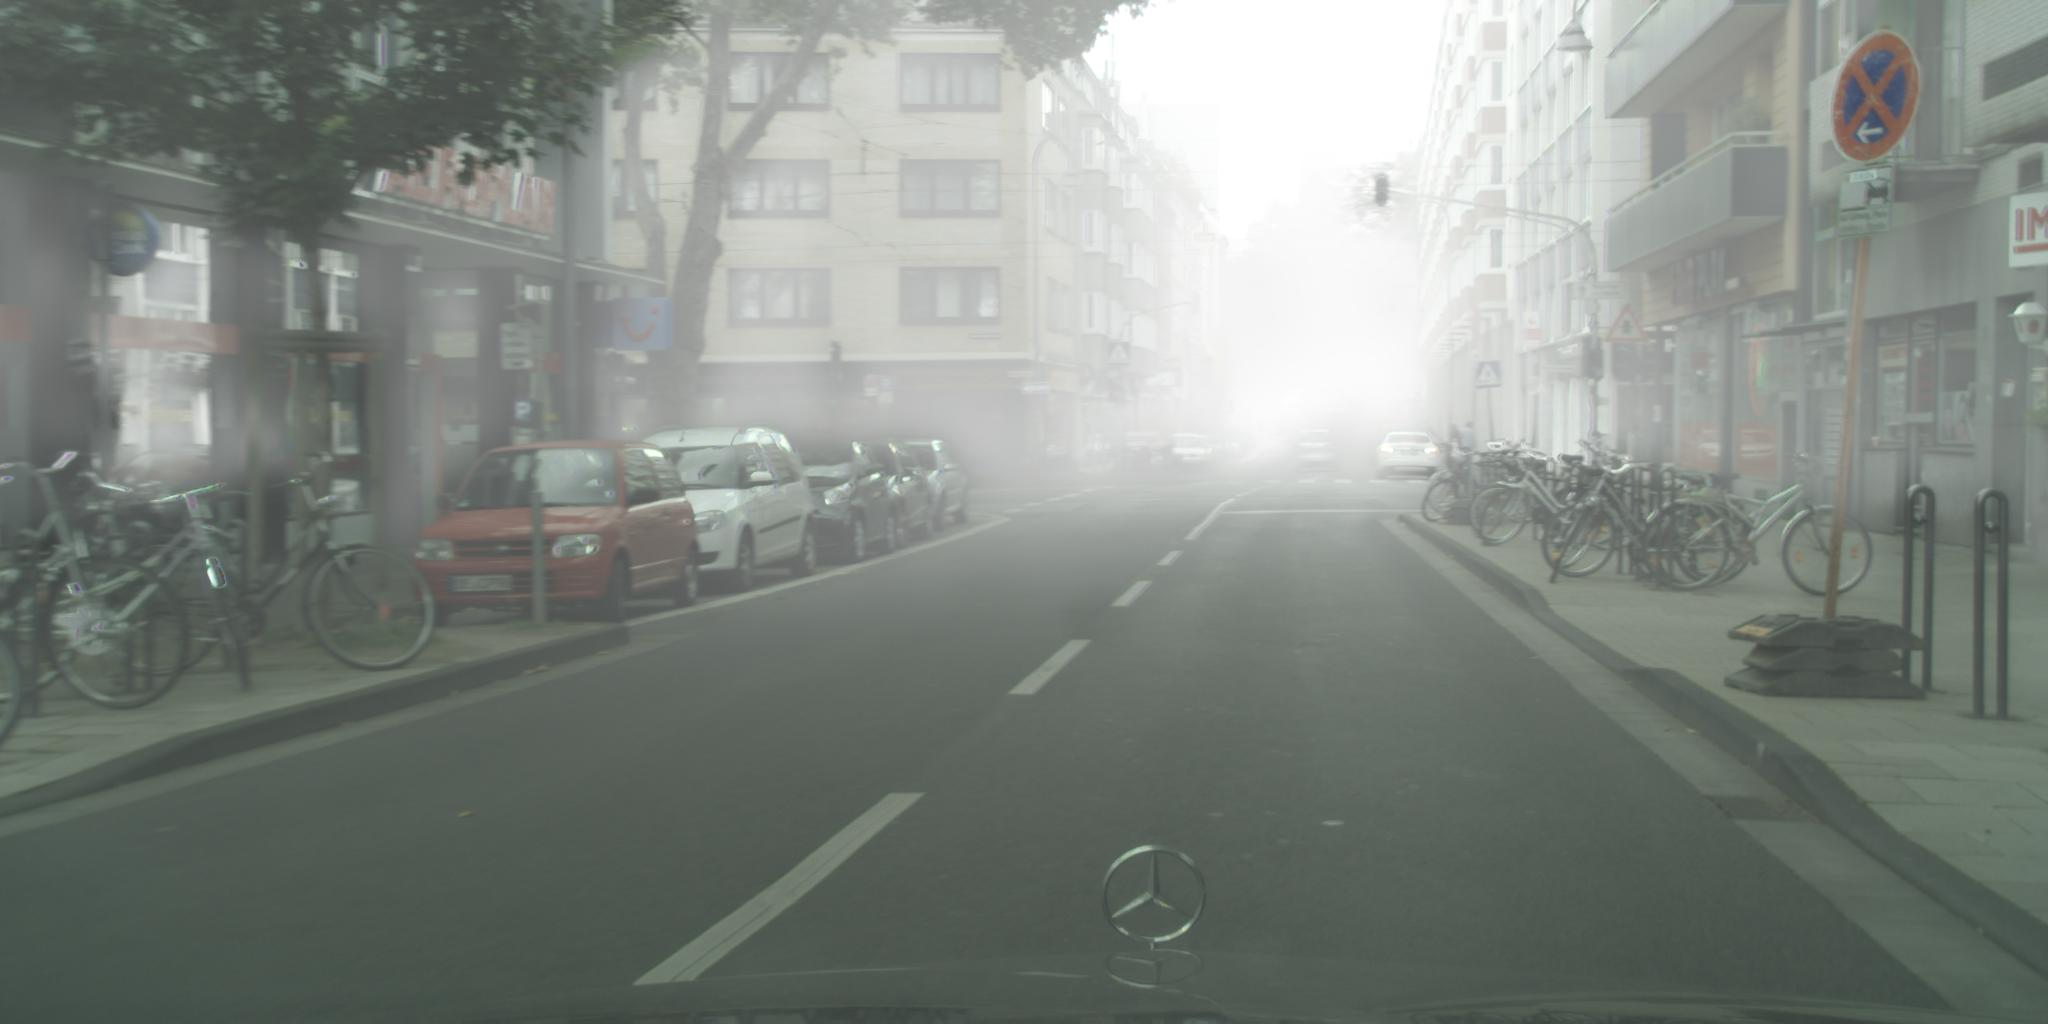bicycle: (84, 448, 441, 680), (1, 449, 205, 756), (1635, 445, 1877, 603)
car: (409, 441, 707, 627), (637, 421, 819, 598), (792, 439, 900, 566), (854, 439, 938, 552), (903, 438, 970, 536), (1375, 431, 1441, 485), (1164, 434, 1233, 477), (1292, 427, 1345, 474), (1368, 422, 1418, 468), (1207, 432, 1249, 466), (1368, 418, 1413, 444), (1226, 430, 1260, 462), (1256, 424, 1287, 448)
